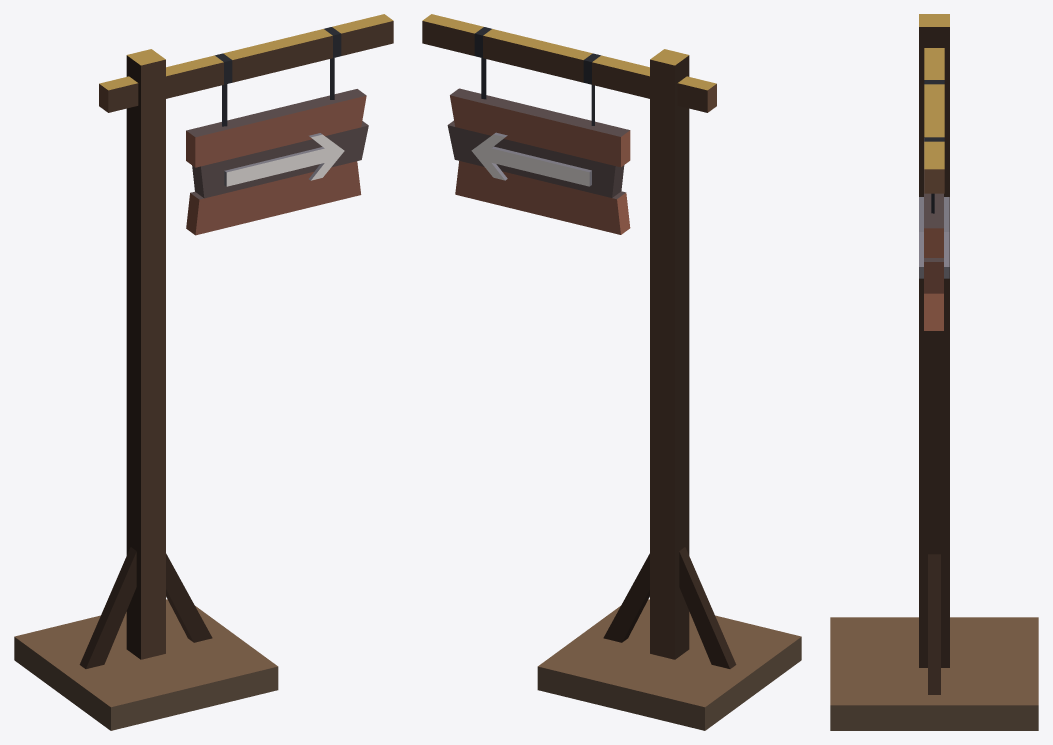
Rendered from TB_D_Prop_Sign_Arrow_B.FBX.
3 views of the same model, side by side, from view 1: azimuth 30°, elevation 25°; view 2: azimuth 150°, elevation 25°; view 3: azimuth 270°, elevation 25° (orthographic). The views are drawn at different scales.
Visible parts, largest first — view 1: TB_D_Prop_Sign_Arrow_B; view 2: TB_D_Prop_Sign_Arrow_B; view 3: TB_D_Prop_Sign_Arrow_B.
Boxes of the visible parts, x1,y1,x2,y2 form: TB_D_Prop_Sign_Arrow_B: (14,14,393,730); TB_D_Prop_Sign_Arrow_B: (422,14,801,730); TB_D_Prop_Sign_Arrow_B: (830,14,1038,730).
Size of the model in its own units: 1.57 by 2.84 by 0.8046.
